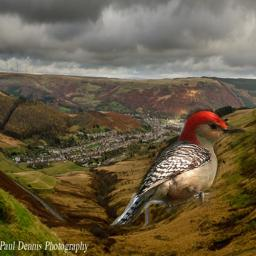Woodpecker: (109, 107, 250, 229)
